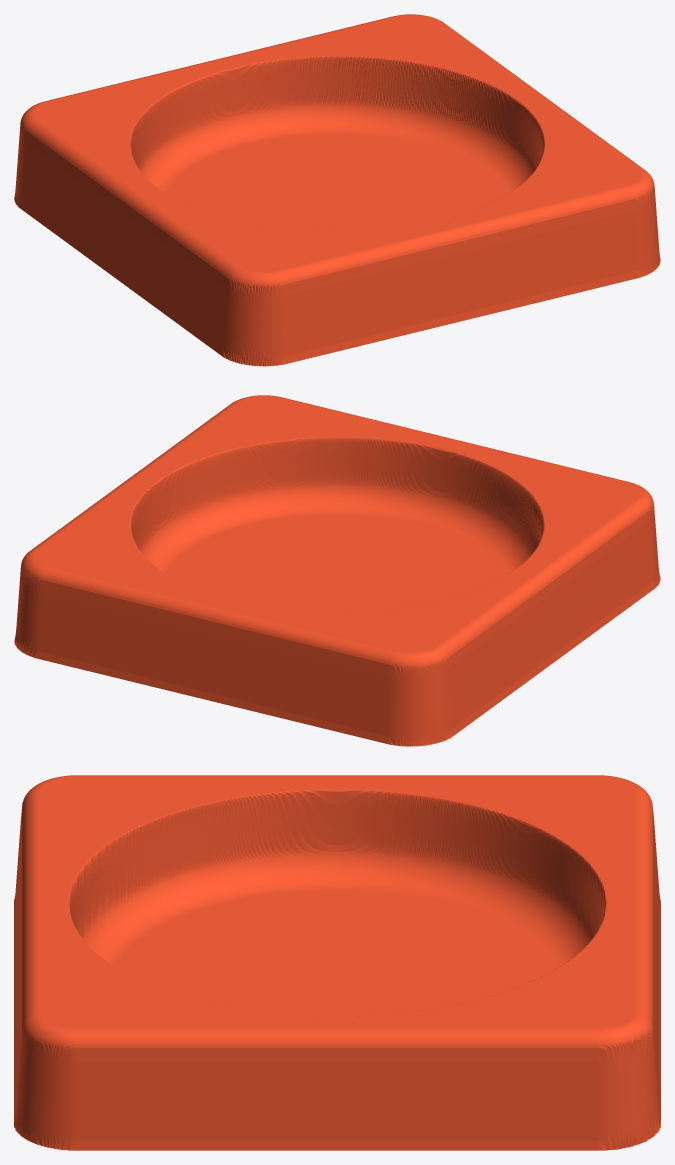
The model's file is mold.glb.
3 renders of one model, top to bottom at view 1: azimuth 30°, elevation 25°; view 2: azimuth 150°, elevation 25°; view 3: azimuth 270°, elevation 25°, orthographic. The views are drawn at different scales.
Parts seen in each view (by area): view 1: geometry_0; view 2: geometry_0; view 3: geometry_0.
Part boxes in pixels (left/top/right/bottom): geometry_0: left=14, top=14, right=660, bottom=366; geometry_0: left=14, top=395, right=660, bottom=746; geometry_0: left=14, top=775, right=660, bottom=1150.
Size of the model in its own units: 0.0924 by 0.0175 by 0.0924.
